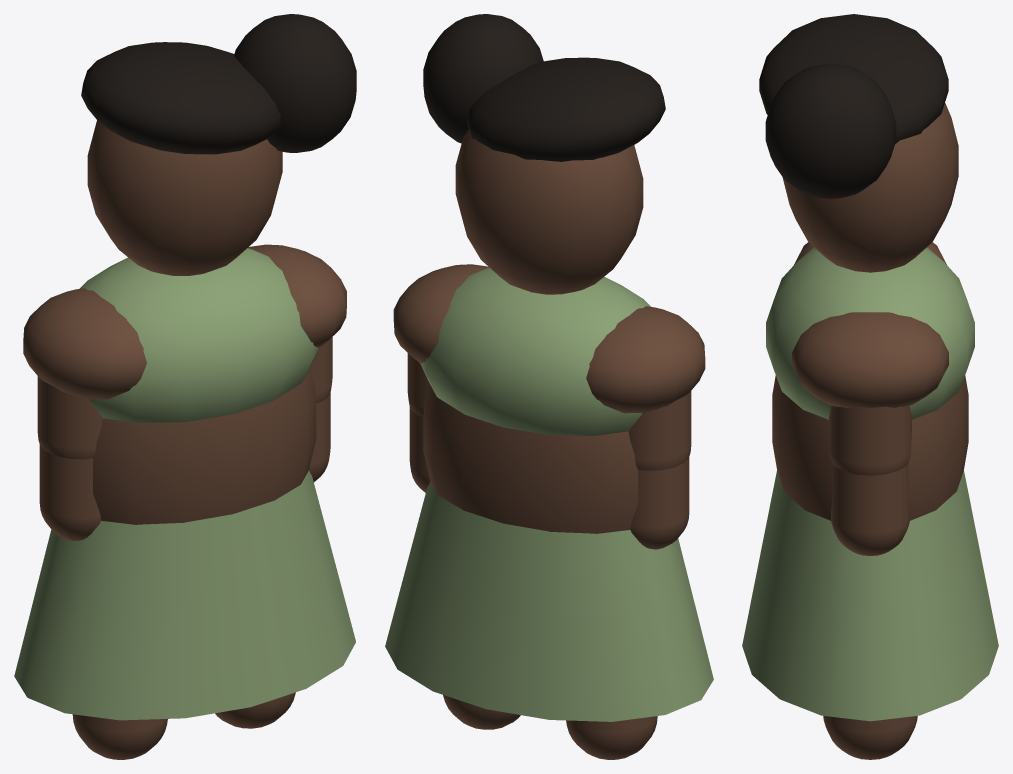
File: citizen_3.glb
3 views of the same model, side by side, from view 1: azimuth 30°, elevation 25°; view 2: azimuth 150°, elevation 25°; view 3: azimuth 270°, elevation 25° (orthographic). The views are drawn at different scales.
Visible parts, largest first — view 1: Skirt, Top, Body, HeadShape, HairCap, SideBun, LeftShoulder, RightShoulder, Forearm, PillArm, Shin, Shin2 (+2 smaller); view 2: Skirt, Top, HeadShape, Body, HairCap, LeftShoulder, SideBun, RightShoulder, Forearm, PillArm, Shin, Shin2 (+2 smaller); view 3: Skirt, Top, HeadShape, SideBun, RightShoulder, HairCap, Body, Forearm2, PillArm2, Shin2.
Boxes of the visible parts, x1,y1,x2,y2 form: Skirt: (14,470,355,720); Top: (79,248,318,423); Body: (93,369,316,524); HeadShape: (87,120,282,275); HairCap: (81,42,280,154); SideBun: (234,14,356,152); LeftShoulder: (23,288,146,399); RightShoulder: (248,244,346,347); Forearm: (39,445,100,541); PillArm: (37,376,102,459); Shin: (72,714,167,759); Shin2: (215,692,295,728); Skirt: (385,481,713,721); Top: (420,267,650,435); HeadShape: (455,128,643,294); Body: (423,384,638,533); HairCap: (466,57,665,161); LeftShoulder: (586,306,705,413); SideBun: (423,14,543,143); RightShoulder: (393,264,488,363); Forearm: (630,457,689,549); PillArm: (628,391,691,470); Shin: (566,716,657,759); Shin2: (443,695,520,729); Skirt: (742,470,998,721); Top: (766,247,974,419); HeadShape: (782,103,958,272); SideBun: (765,63,896,198); RightShoulder: (792,312,948,407); HairCap: (759,14,948,144); Body: (772,375,968,520); Forearm2: (831,462,909,555); PillArm2: (829,405,911,475); Shin2: (823,716,917,759).
Size of the model in its own units: 0.54 by 1.17 by 0.3888.
